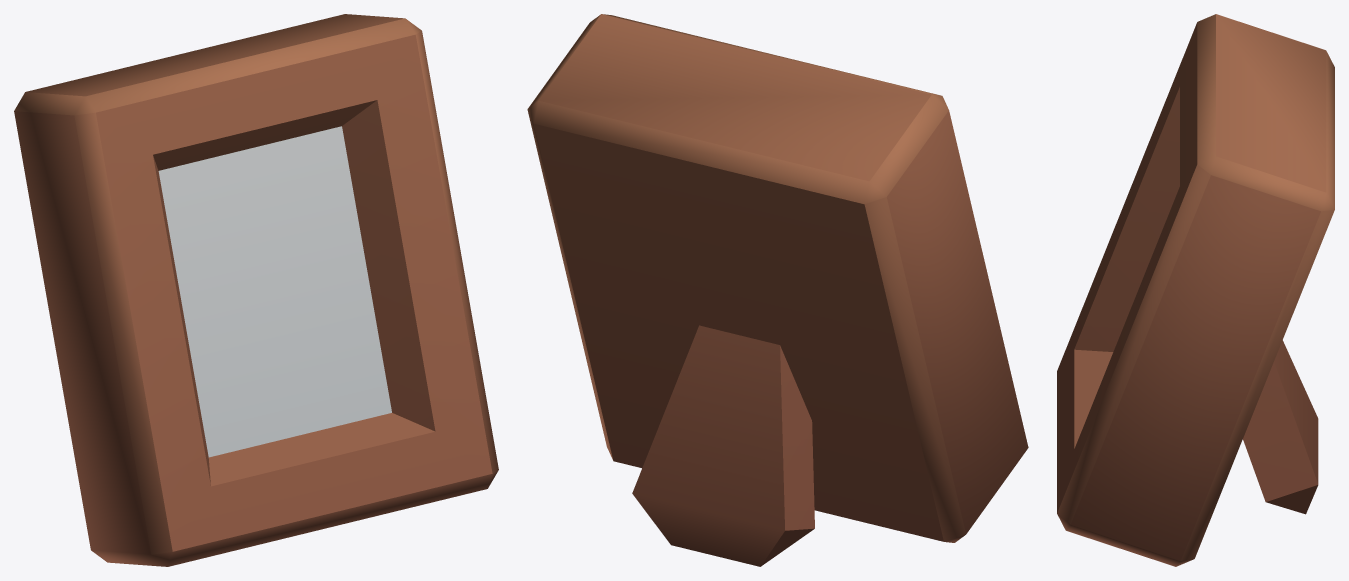
The model's file is K_pictureframe_standing_A.glb.
3 renders of one model, left to right at view 1: azimuth 30°, elevation 25°; view 2: azimuth 150°, elevation 25°; view 3: azimuth 270°, elevation 25°, orthographic. The views are drawn at different scales.
Parts seen in each view (by area): view 1: pictureframe_standing_A; view 2: pictureframe_standing_A; view 3: pictureframe_standing_A.
Part boxes in pixels (left/top/right/bottom): pictureframe_standing_A: left=14, top=14, right=498, bottom=566; pictureframe_standing_A: left=527, top=14, right=1028, bottom=566; pictureframe_standing_A: left=1057, top=14, right=1334, bottom=566.
Bounding box in the file's own units: 0.5 × 0.6185 × 0.3795.
